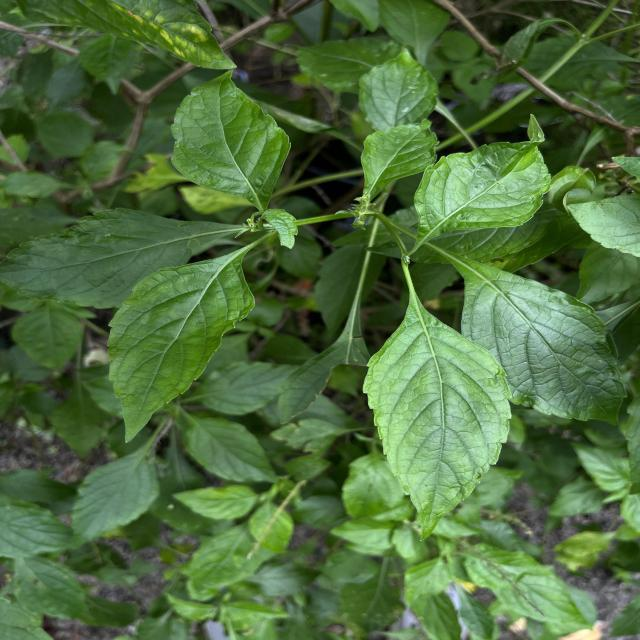Ocimum gratissimum: (359, 285, 516, 544), (102, 245, 258, 447), (456, 255, 630, 430), (0, 201, 249, 310), (411, 109, 554, 254), (166, 66, 295, 212), (357, 114, 443, 200)
